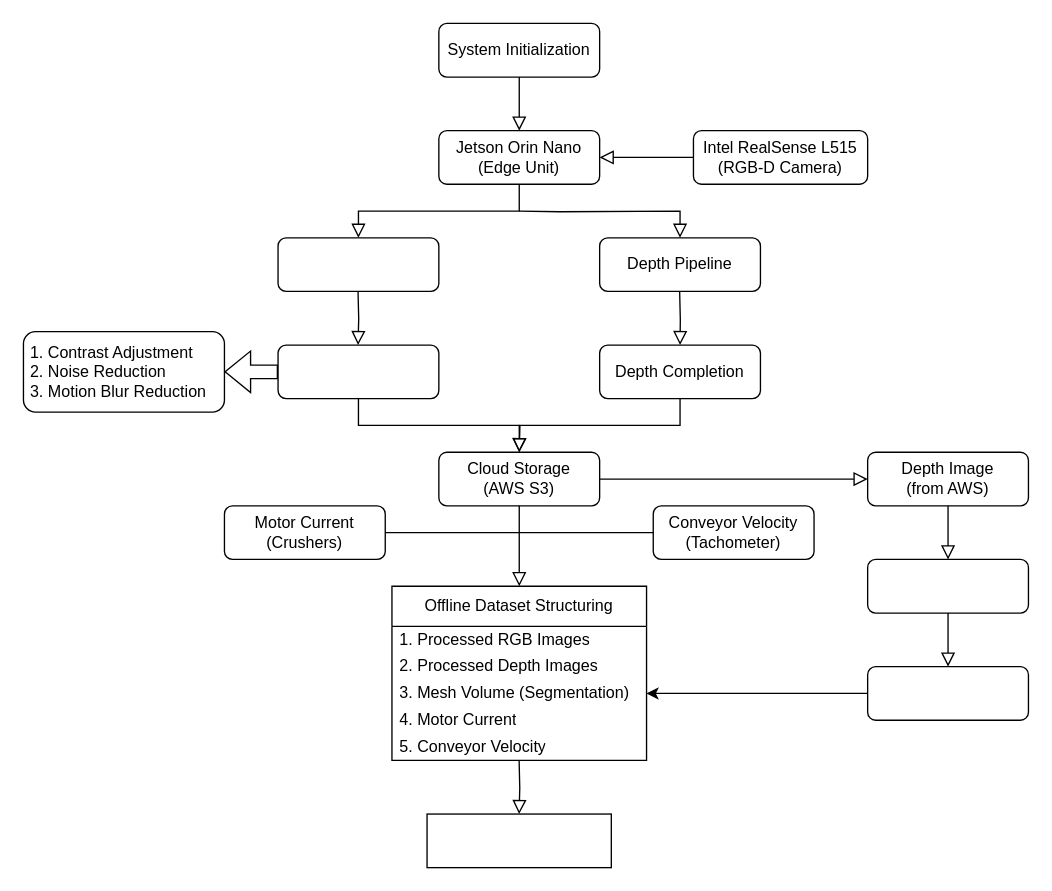
Image size: 1052x891. Some labels were removed from this diagram. The box of each missing label's shape, as (x1, y1, x2, y2) in pixels:
Image Enhancement: (277, 344, 439, 399)
Mesh Segmentation: (866, 558, 1028, 613)
Offline Jam Condition Analysis: (426, 813, 611, 868)
RGB Pipeline: (277, 237, 439, 291)
Volume Estimation: (866, 665, 1028, 720)
